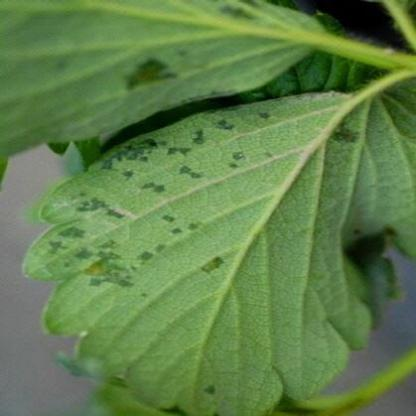Strawberry_Angular_LeafSpot: (20, 70, 415, 415), (0, 0, 323, 160)
